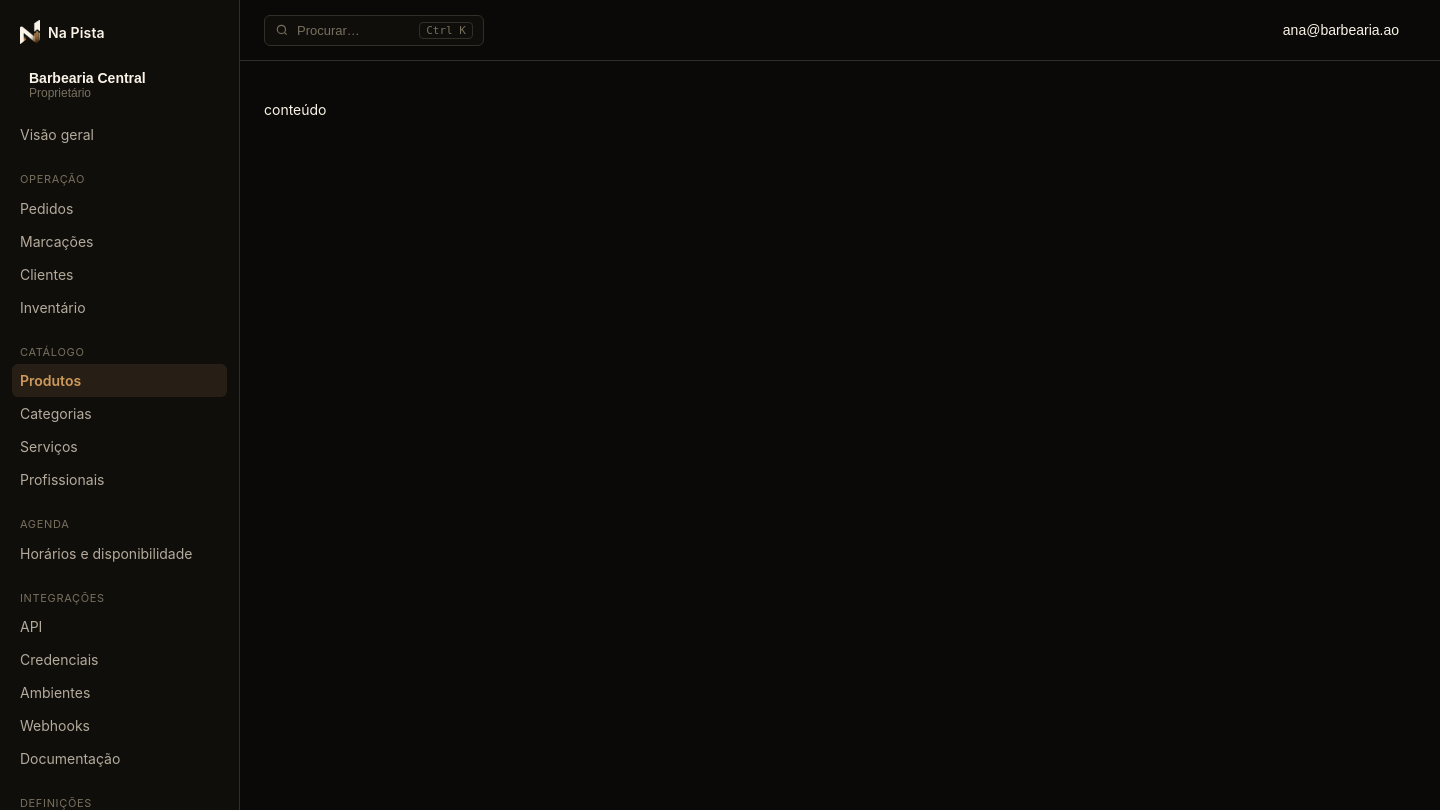
Scenario: Command menu › Ctrl+K opens it; typing filters (accent-insensitive); Enter navigates
This screenshot has width=1440, height=810.
Type keys "{Control>}k{/Control}"
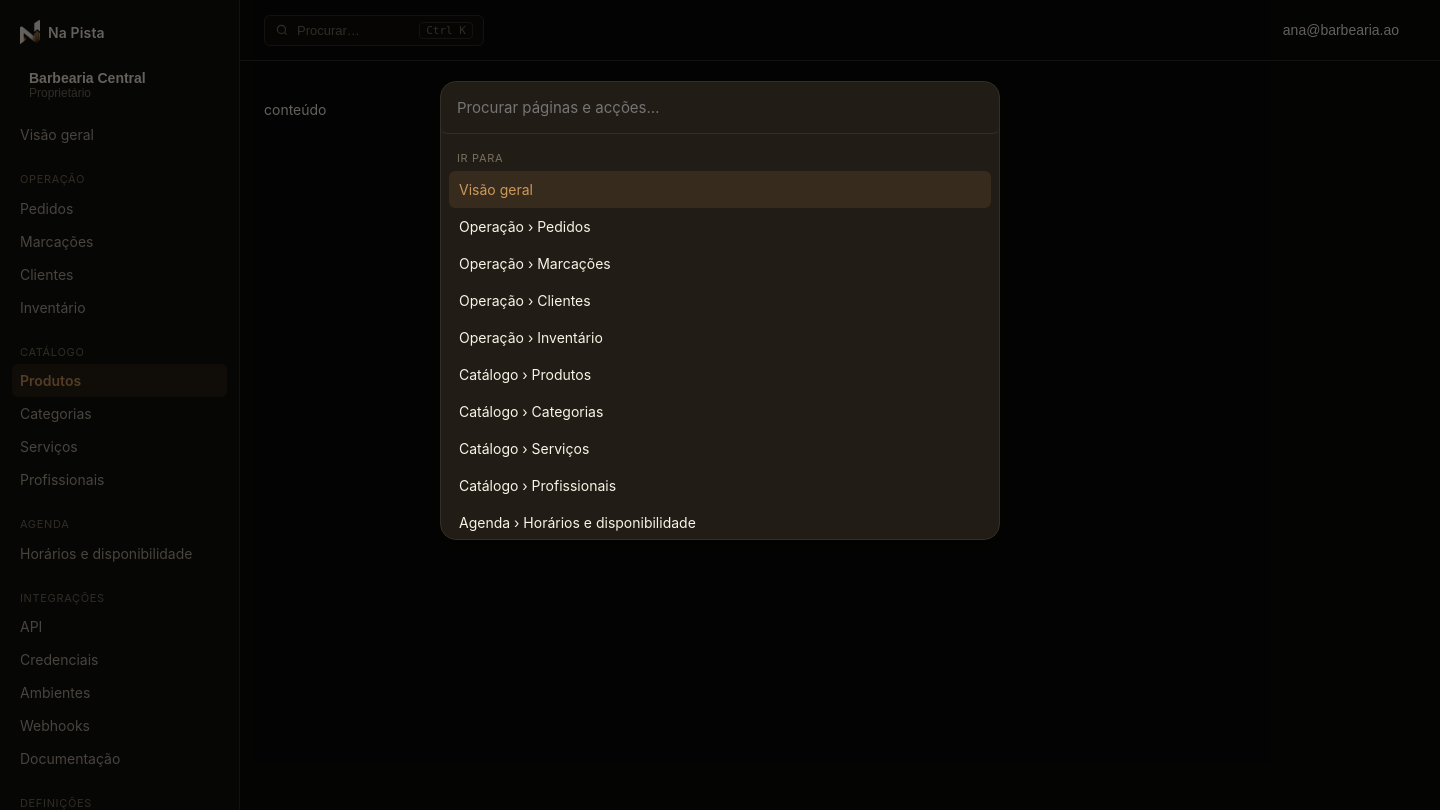
Type "marcacoes" into the dropdown labelled "Procurar páginas e acções" at (720, 108), box left=441, top=82, right=999, bottom=134
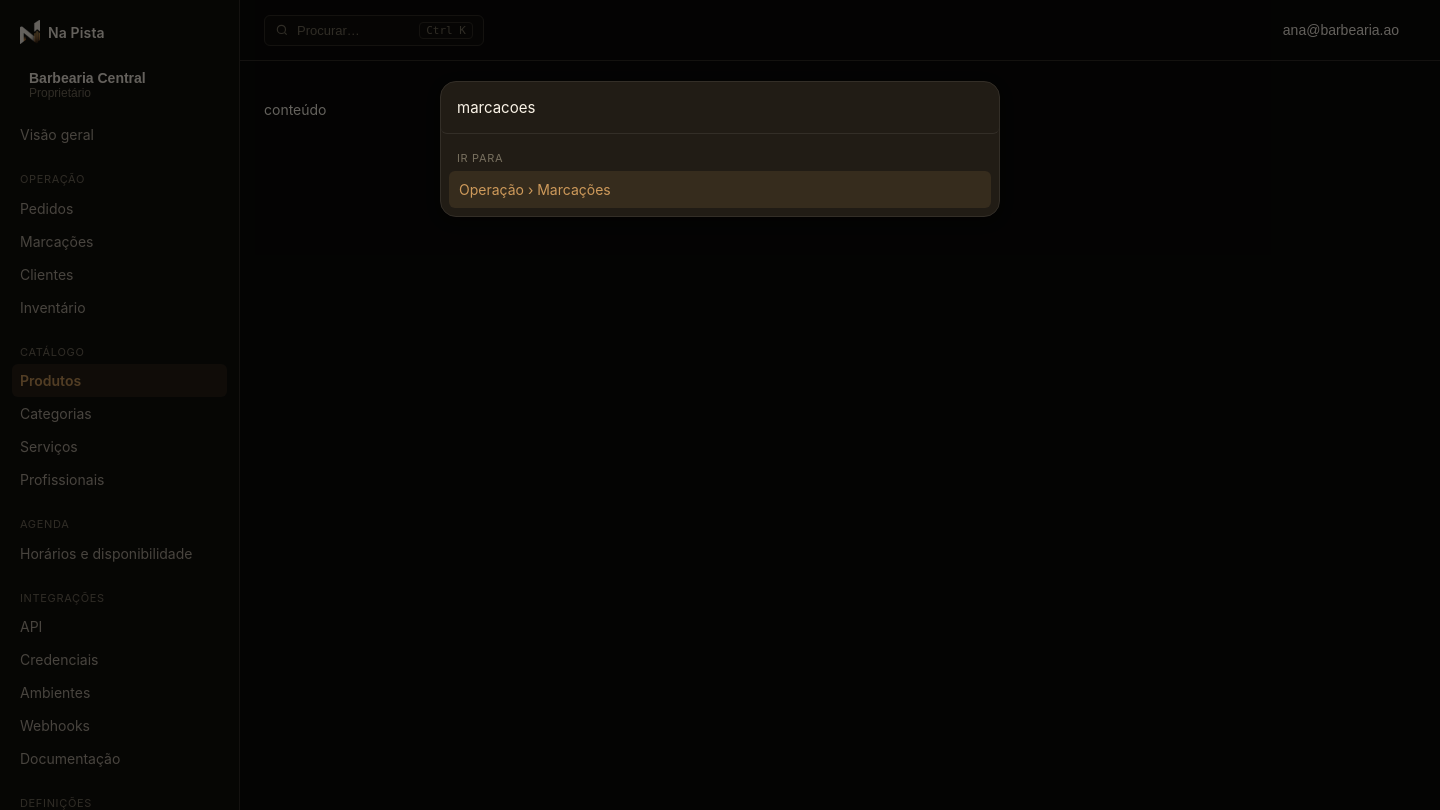
expect the option shows "Marcações": met, box left=449, top=170, right=991, bottom=208
Press Enter
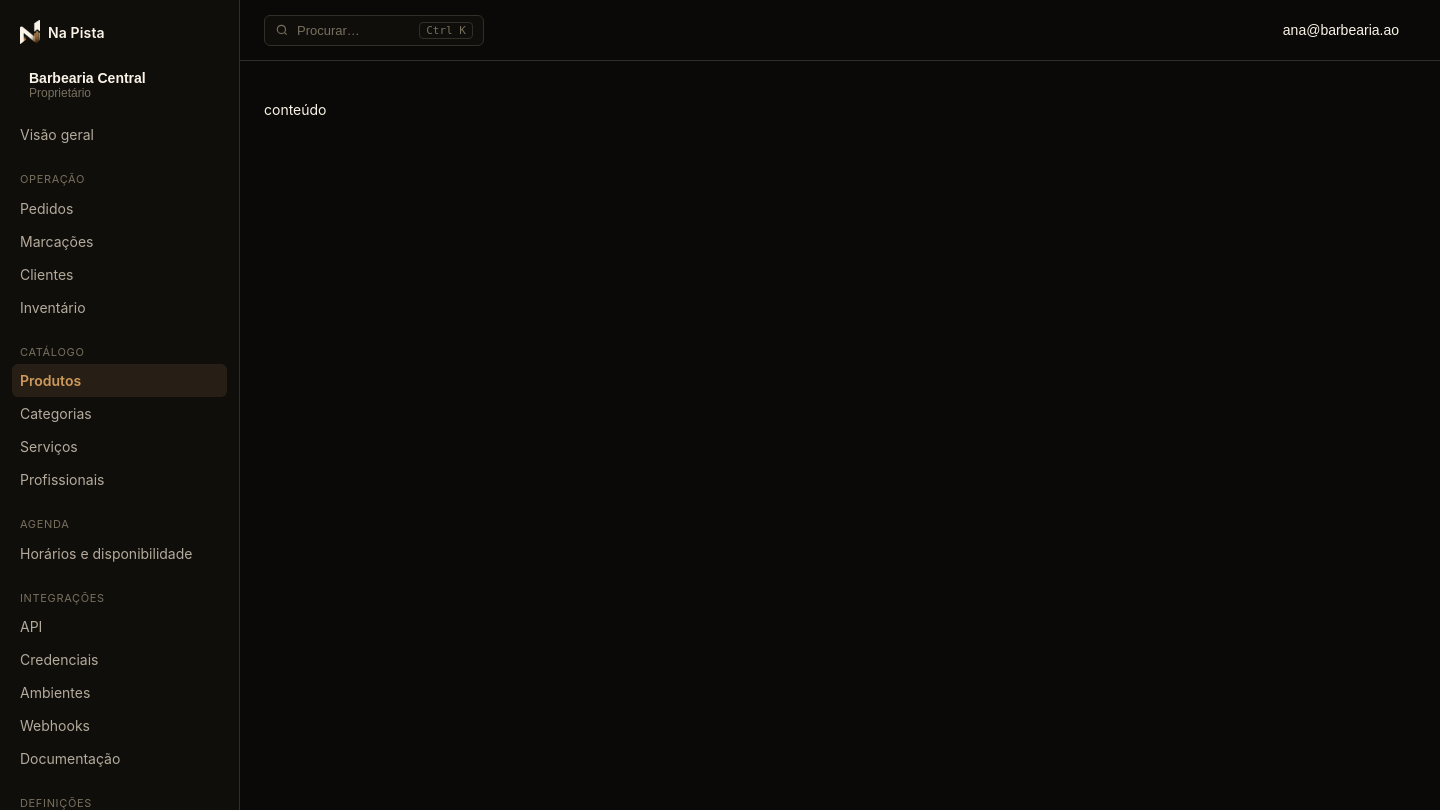
expect the dropdown is gone: met
